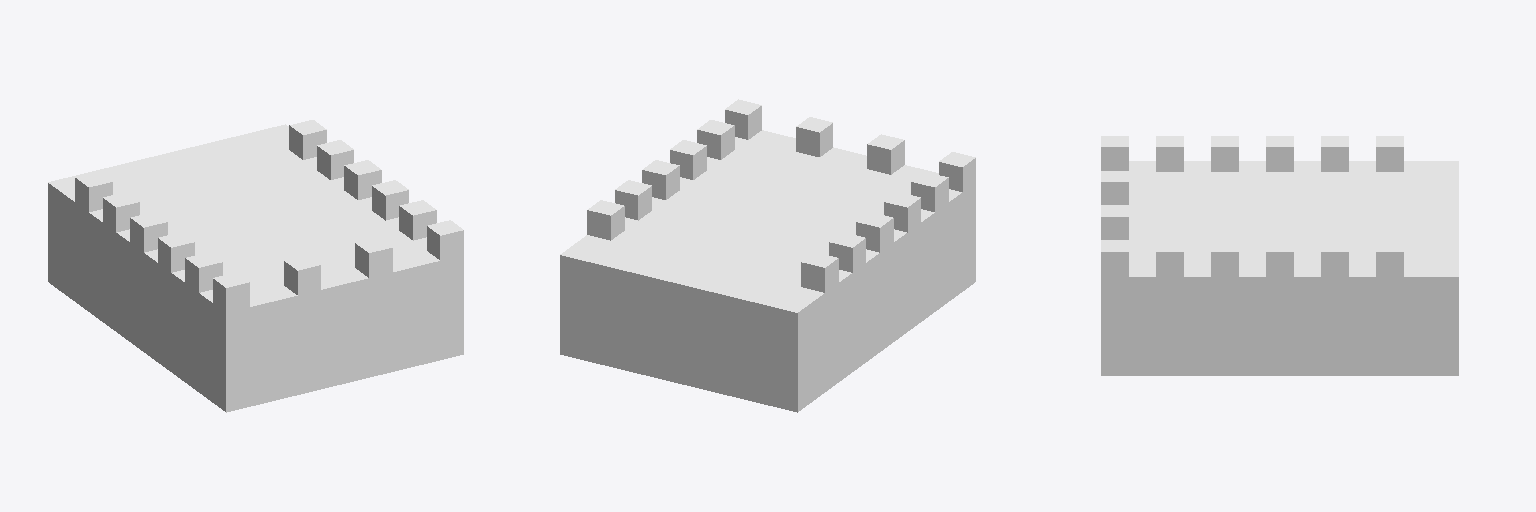
Rendered from Dragon_large-9.obj.
The picture shows the model from 3 angles: view 1: azimuth 30°, elevation 25°; view 2: azimuth 150°, elevation 25°; view 3: azimuth 270°, elevation 25°; orthographic projection.
Visible parts, largest first — view 1: object 1; view 2: object 1; view 3: object 1.
Part boxes in pixels (bbox=[...]): object 1: bbox=[48, 120, 463, 412]; object 1: bbox=[560, 99, 975, 412]; object 1: bbox=[1101, 136, 1458, 375].
Size of the model in its own units: 1 by 0.5 by 1.3.